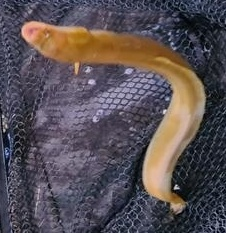Anguilla anguilla: (20, 20, 206, 213)
